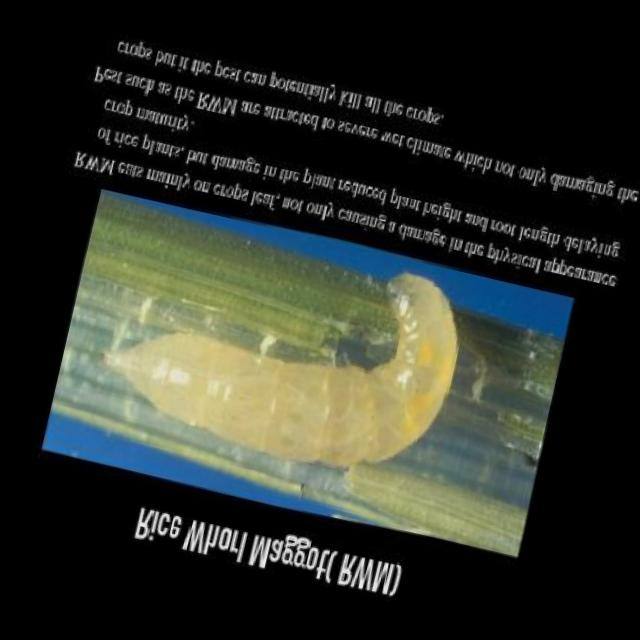whorl-maggot: (78, 204, 480, 501)
